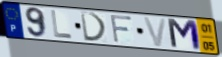9: (23, 6, 47, 39)
D: (79, 11, 109, 43)
F: (109, 14, 134, 44)
L: (50, 9, 74, 40)
M: (166, 17, 204, 52)
V: (142, 16, 168, 48)
